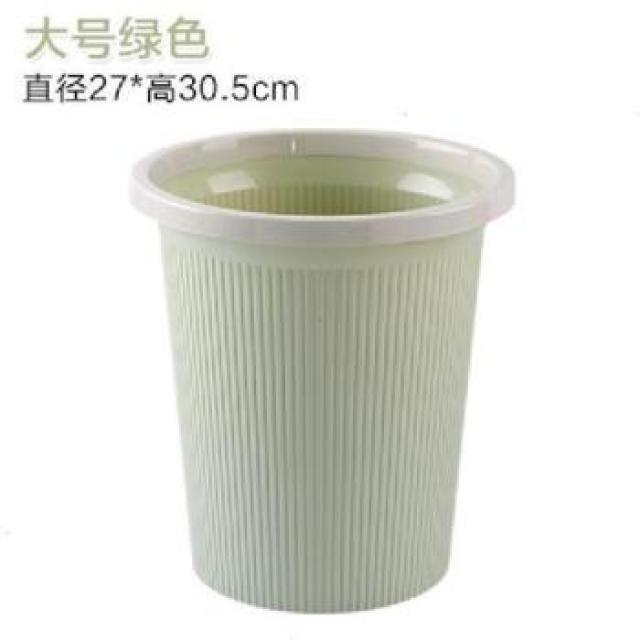dustbin: (123, 120, 521, 620)
